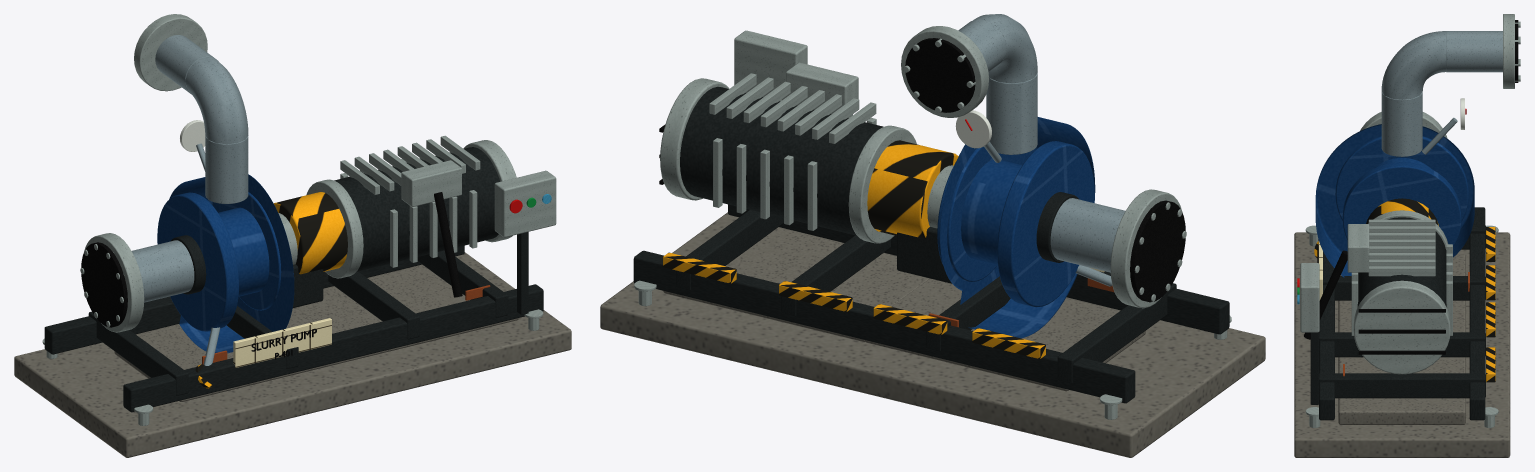
Rendered from level4_slurry_pump_industrial_uv.glb.
3 views of the same model, side by side, from view 1: azimuth 30°, elevation 25°; view 2: azimuth 150°, elevation 25°; view 3: azimuth 270°, elevation 25° (orthographic). The views are drawn at different scales.
Parts seen in each view (by area): view 1: L4_Pump_Concrete_Foundation, L4_Skid_Long_IBeam_-0.62, L4_DriveMotor_Casing, L4_SlurryPump_Blue_Volute_Casing, L4_Pump_Front_Cover_Ring, L4_Pump_Grout_Pad_Motor, L4_Coupling_Guard_Yellow_Striped, L4_Discharge_Elbow_90deg, L4_Skid_Long_IBeam_+0.62, L4_Local_Control_Panel_Box, L4_Suction_Gasket_Rubber, L4_Suction_Nozzle_Pipe (+19 smaller); view 2: L4_Pump_Concrete_Foundation, L4_DriveMotor_Casing, L4_Skid_Long_IBeam_+0.62, L4_Pump_Front_Cover_Ring, L4_SlurryPump_Blue_Volute_Casing, L4_Pump_Grout_Pad_Motor, L4_Coupling_Guard_Yellow_Striped, L4_Pump_Grout_Pad_Pump, L4_Skid_Long_IBeam_-0.62, L4_Suction_Gasket_Rubber, L4_Suction_Nozzle_Pipe, L4_Discharge_Gasket_Rubber (+35 smaller); view 3: L4_Pump_Concrete_Foundation, L4_DriveMotor_Rear_FanCover, L4_Pump_Back_Cover_Ring, L4_SlurryPump_Blue_Volute_Casing, L4_Pump_Grout_Pad_Motor, L4_Skid_CrossMember_+1.55, L4_Pump_Front_Cover_Ring, L4_Discharge_Elbow_90deg, L4_Skid_Long_IBeam_+0.62, L4_Discharge_Riser_Pipe, L4_Discharge_Outlet_Pipe, L4_Skid_Long_IBeam_-0.62 (+30 smaller).
Part boxes in pixels (x1,y1,x2,y2): L4_Pump_Concrete_Foundation: (14,252,571,457); L4_Skid_Long_IBeam_-0.62: (123,284,543,412); L4_DriveMotor_Casing: (334,147,500,271); L4_SlurryPump_Blue_Volute_Casing: (169,174,294,353); L4_Pump_Front_Cover_Ring: (157,192,238,331); L4_Pump_Grout_Pad_Motor: (296,265,518,360); L4_Coupling_Guard_Yellow_Striped: (273,192,347,274); L4_Discharge_Elbow_90deg: (185,57,248,144); L4_Skid_Long_IBeam_+0.62: (44,245,464,354); L4_Local_Control_Panel_Box: (494,170,556,237); L4_Suction_Gasket_Rubber: (81,242,127,327); L4_Suction_Nozzle_Pipe: (132,240,194,302); L4_Pump_Concrete_Foundation: (600,212,1265,457); L4_DriveMotor_Casing: (680,86,883,235); L4_Skid_Long_IBeam_+0.62: (633,250,1135,403); L4_Pump_Front_Cover_Ring: (997,141,1094,307); L4_SlurryPump_Blue_Volute_Casing: (940,117,1095,338); L4_Pump_Grout_Pad_Motor: (663,227,929,342); L4_Coupling_Guard_Yellow_Striped: (867,140,958,238); L4_Pump_Grout_Pad_Pump: (865,278,1145,391); L4_Skid_Long_IBeam_-0.62: (728,204,1229,334); L4_Suction_Gasket_Rubber: (1130,200,1185,302); L4_Suction_Nozzle_Pipe: (1050,198,1125,272); L4_Discharge_Gasket_Rubber: (905,38,975,112); L4_Pump_Concrete_Foundation: (1294,232,1510,457); L4_DriveMotor_Rear_FanCover: (1353,280,1450,374); L4_Pump_Back_Cover_Ring: (1342,162,1461,246); L4_SlurryPump_Blue_Volute_Casing: (1315,124,1474,277); L4_Pump_Grout_Pad_Motor: (1338,357,1465,424); L4_Skid_CrossMember_+1.55: (1319,373,1485,398); L4_Pump_Front_Cover_Ring: (1335,136,1468,221); L4_Discharge_Elbow_90deg: (1381,31,1445,99); L4_Skid_Long_IBeam_+0.62: (1469,207,1485,420); L4_Discharge_Riser_Pipe: (1381,92,1422,156); L4_Discharge_Outlet_Pipe: (1446,31,1502,72); L4_Skid_Long_IBeam_-0.62: (1319,251,1334,420).
Bounding box in the file's own units: 4.05 × 2.79 × 1.87.
Materials: 1 (1 with a texture image).
